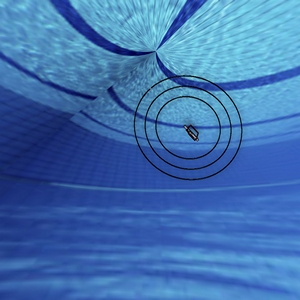circle: (117, 61, 250, 186)
submarine: (178, 116, 208, 149)
